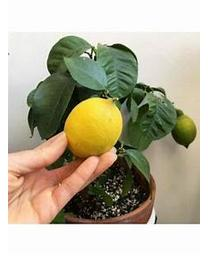lemon: (63, 99, 122, 157), (172, 116, 198, 147)
